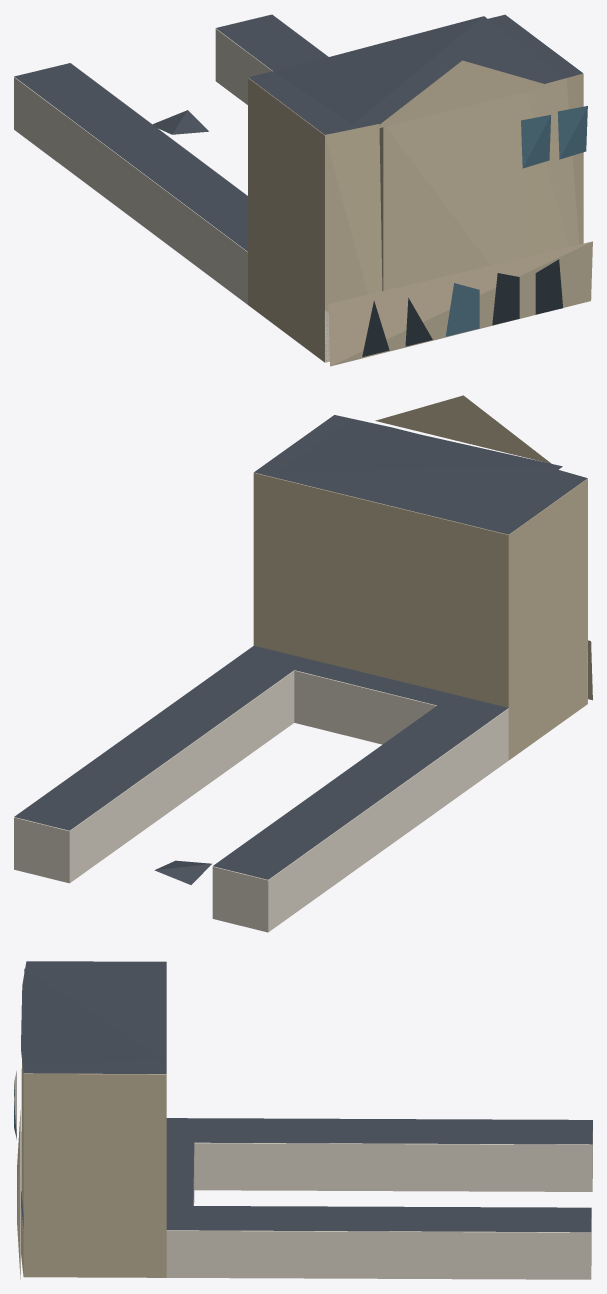
Rendered from hollandsche-schouwburg.lod2.glb.
The picture shows the model from 3 angles, top to bottom: view 1: azimuth 30°, elevation 25°; view 2: azimuth 150°, elevation 25°; view 3: azimuth 270°, elevation 25°; orthographic projection. The views are drawn at different scales.
Parts seen in each view (by area): view 1: lod2; view 2: lod2; view 3: lod2.
Boxes of the visible parts, x1=… form: lod2: x1=14, y1=14, x2=592, y2=366; lod2: x1=14, y1=395, x2=592, y2=932; lod2: x1=14, y1=961, x2=592, y2=1279.
Bounding box in the file's own units: 16.23 × 16.2 × 34.59.
